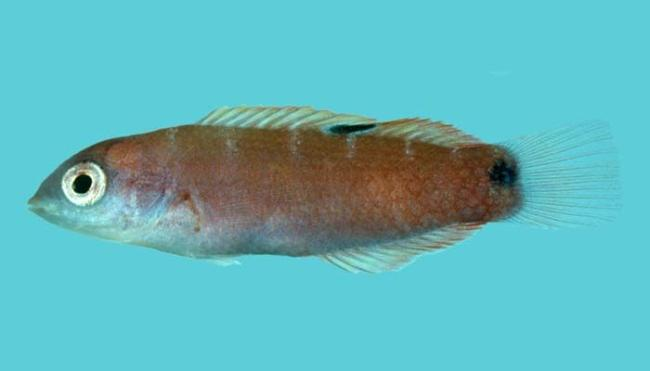fish: (27, 104, 624, 278)
